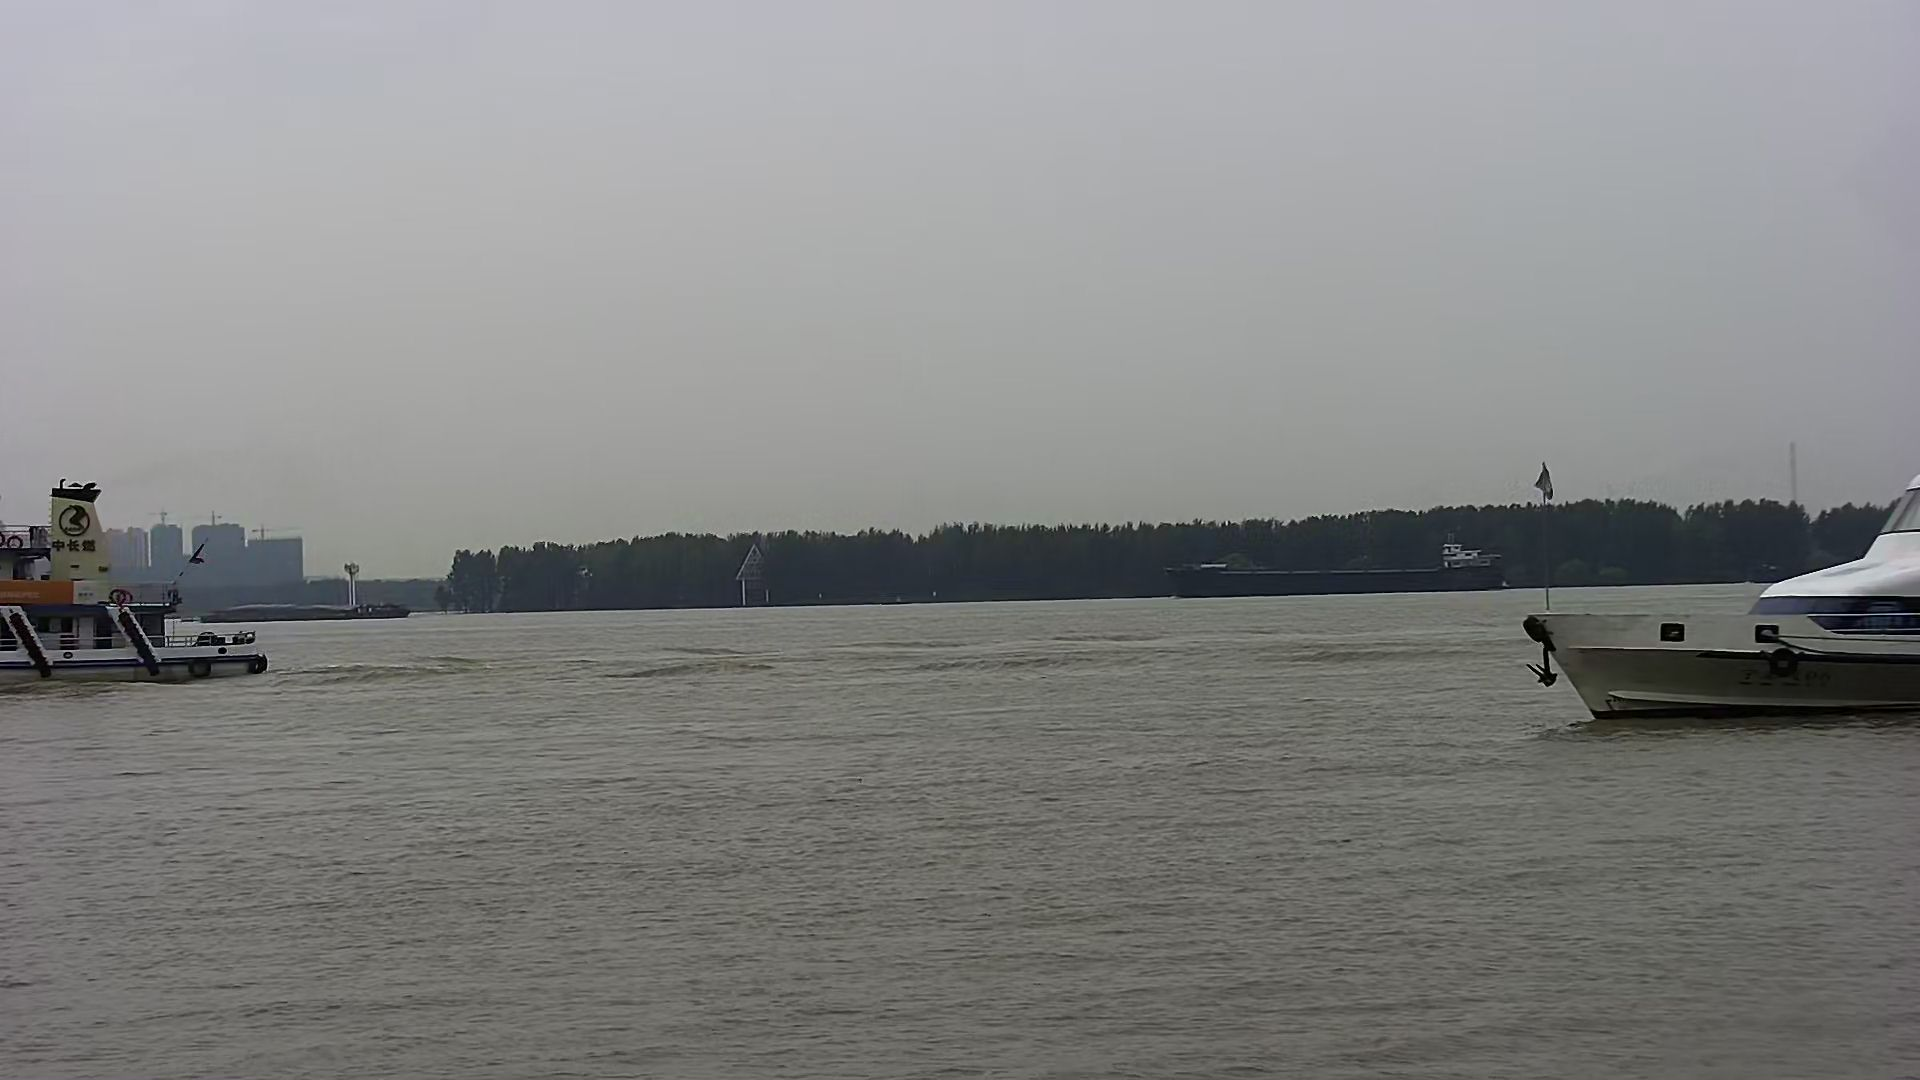ship: (1526, 476, 1920, 716), (3, 479, 273, 682), (1166, 541, 1513, 591), (200, 560, 404, 622)
